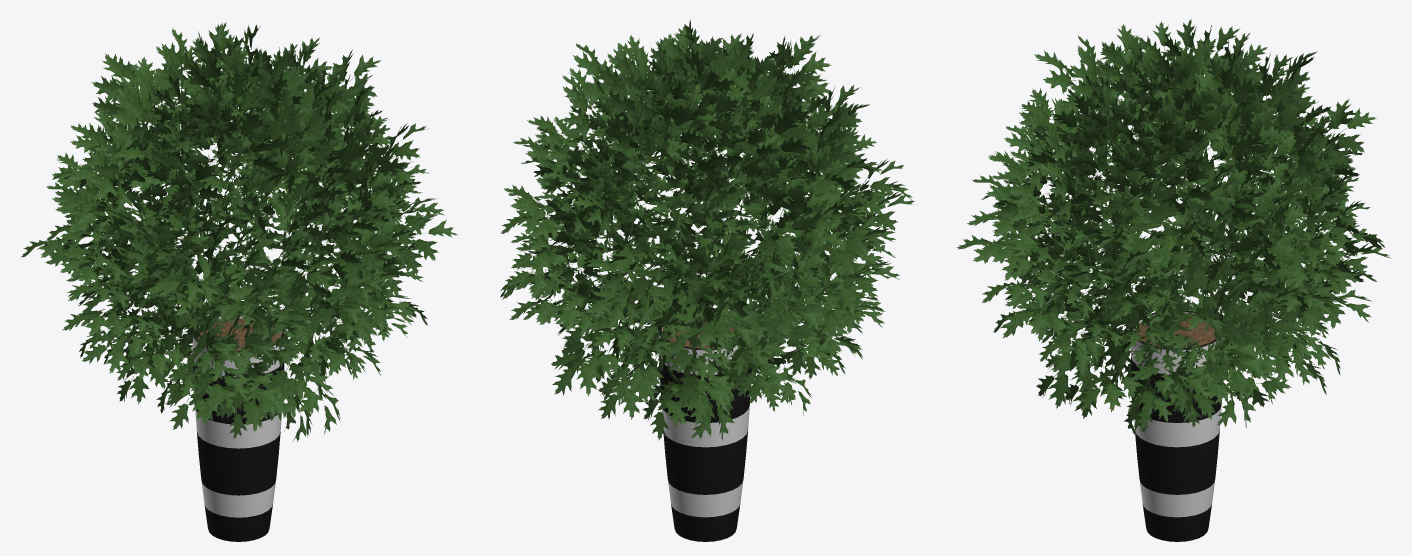
The model's file is Porred_Plant_A.fbx.
3 views of the same model, side by side, from view 1: azimuth 30°, elevation 25°; view 2: azimuth 150°, elevation 25°; view 3: azimuth 270°, elevation 25° (orthographic).
Visible parts, largest first — view 1: Potted_Plant_A; view 2: Potted_Plant_A; view 3: Potted_Plant_A.
Part boxes in pixels (box(x1,y1,x2,y2)): Potted_Plant_A: box(21, 22, 457, 541); Potted_Plant_A: box(500, 19, 914, 541); Potted_Plant_A: box(956, 19, 1391, 541).
Bounding box in the file's own units: 1.4 × 1.44 × 1.76.
